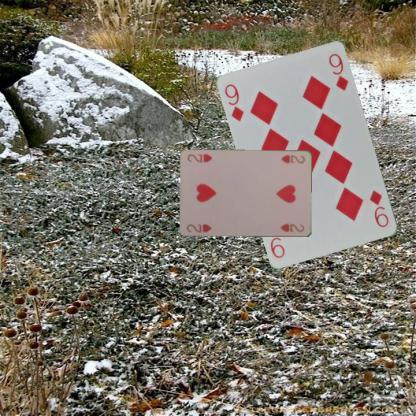2h: (278, 152, 306, 164), (184, 222, 213, 233)
9d: (366, 188, 390, 229), (222, 82, 245, 124)
